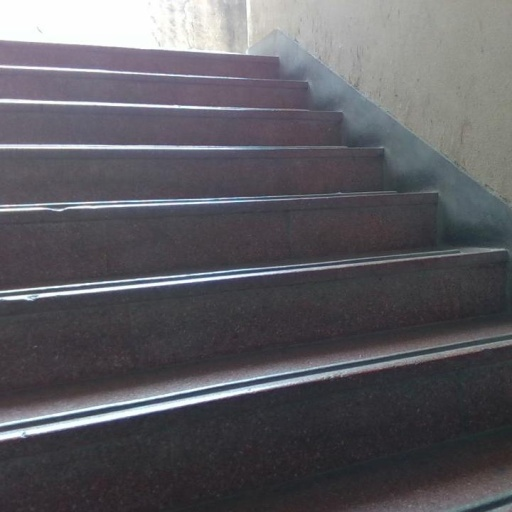Stairs: (0, 42, 512, 512)
